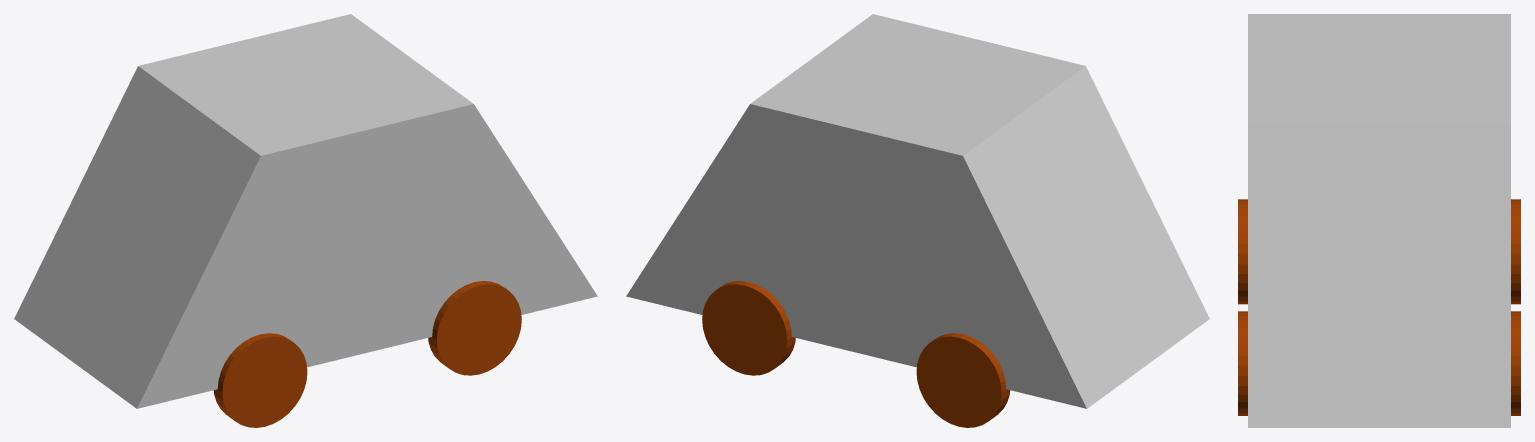
File: genericCar1.obj
The picture shows the model from 3 angles, left to right: view 1: azimuth 30°, elevation 25°; view 2: azimuth 150°, elevation 25°; view 3: azimuth 270°, elevation 25°; orthographic projection. The views are drawn at different scales.
Parts seen in each view (by area): view 1: Cube, Cube.001_Cube.003; view 2: Cube, Cube.001_Cube.003; view 3: Cube, Cube.001_Cube.003.
Part boxes in pixels (box(x1,y1,x2,y2)): Cube: box(14, 14, 597, 408); Cube.001_Cube.003: box(213, 281, 521, 427); Cube: box(626, 14, 1209, 408); Cube.001_Cube.003: box(702, 281, 1010, 427); Cube: box(1248, 14, 1510, 427); Cube.001_Cube.003: box(1238, 199, 1520, 415).
Size of the model in its own units: 4.33 by 2.4 by 2.15.
